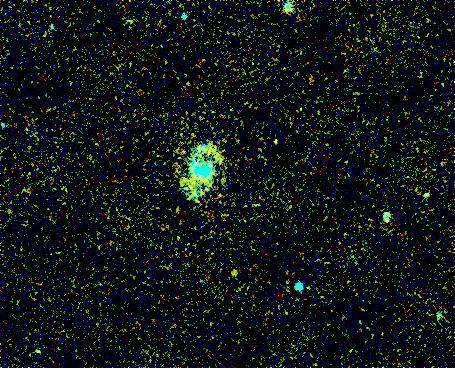star: (263, 127, 293, 157)
